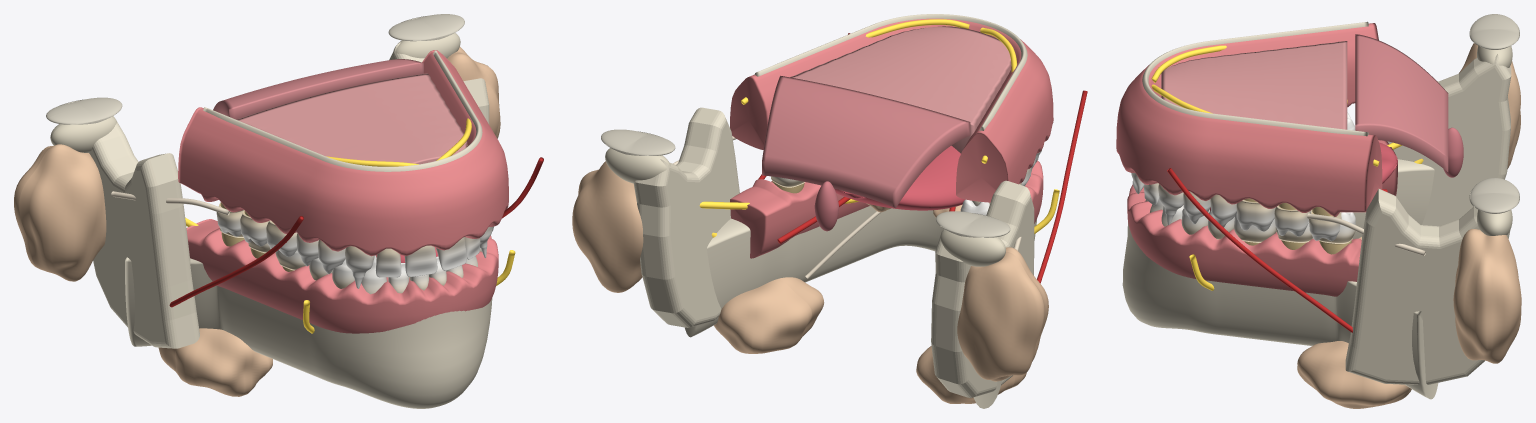
The model's file is dentalvista.glb.
The picture shows the model from 3 angles, left to right: view 1: azimuth 30°, elevation 25°; view 2: azimuth 150°, elevation 25°; view 3: azimuth 270°, elevation 25°; orthographic projection. The views are drawn at different scales.
Parts seen in each view (by area): view 1: gum_upper, mandible, ramus_R, gum_lower, palate_hard, parotid_R, submandibular_R, palate_soft, maxilla, disc_R, disc_L, parotid_L (+13 smaller); view 2: palate_soft, ramus_L, gum_upper, palate_hard, mandible, parotid_R, ramus_R, parotid_L, submandibular_L, gum_lower, tongue, maxilla (+8 smaller); view 3: gum_upper, ramus_L, mandible, palate_hard, gum_lower, ramus_R, palate_soft, parotid_L, submandibular_L, maxilla, disc_L, disc_R (+17 smaller).
Part boxes in pixels (x1=…): gum_upper: x1=178, y1=50, x2=508, y2=256; mandible: x1=125, y1=257, x2=492, y2=408; ramus_R: x1=89, y1=116, x2=199, y2=348; gum_lower: x1=186, y1=219, x2=498, y2=333; palate_hard: x1=236, y1=73, x2=467, y2=164; parotid_R: x1=14, y1=144, x2=106, y2=281; submandibular_R: x1=158, y1=328, x2=272, y2=396; palate_soft: x1=213, y1=59, x2=423, y2=119; maxilla: x1=203, y1=50, x2=482, y2=171; disc_R: x1=46, y1=97, x2=122, y2=124; disc_L: x1=388, y1=14, x2=464, y2=41; parotid_L: x1=447, y1=47, x2=500, y2=138; palate_soft: x1=762, y1=75, x2=970, y2=208; ramus_L: x1=633, y1=107, x2=739, y2=327; gum_upper: x1=730, y1=18, x2=1053, y2=202; palate_hard: x1=790, y1=26, x2=1011, y2=153; mandible: x1=685, y1=206, x2=1036, y2=408; parotid_R: x1=957, y1=247, x2=1048, y2=381; ramus_R: x1=931, y1=180, x2=1034, y2=397; parotid_L: x1=572, y1=161, x2=643, y2=292; submandibular_L: x1=714, y1=277, x2=824, y2=353; gum_lower: x1=730, y1=160, x2=1043, y2=258; tongue: x1=834, y1=145, x2=965, y2=210; maxilla: x1=754, y1=14, x2=1027, y2=130; gum_upper: x1=1116, y1=23, x2=1382, y2=216; ramus_L: x1=1345, y1=189, x2=1510, y2=384; mandible: x1=1122, y1=159, x2=1438, y2=399; palate_hard: x1=1161, y1=41, x2=1347, y2=129; gum_lower: x1=1127, y1=140, x2=1397, y2=296; ramus_R: x1=1387, y1=54, x2=1511, y2=226; palate_soft: x1=1355, y1=34, x2=1448, y2=171; parotid_L: x1=1453, y1=229, x2=1521, y2=363; submandibular_L: x1=1297, y1=341, x2=1411, y2=408; maxilla: x1=1142, y1=21, x2=1368, y2=136; disc_L: x1=1469, y1=178, x2=1519, y2=213; disc_R: x1=1469, y1=14, x2=1519, y2=49.
Size of the model in its own units: 140 by 78.48 by 105.
